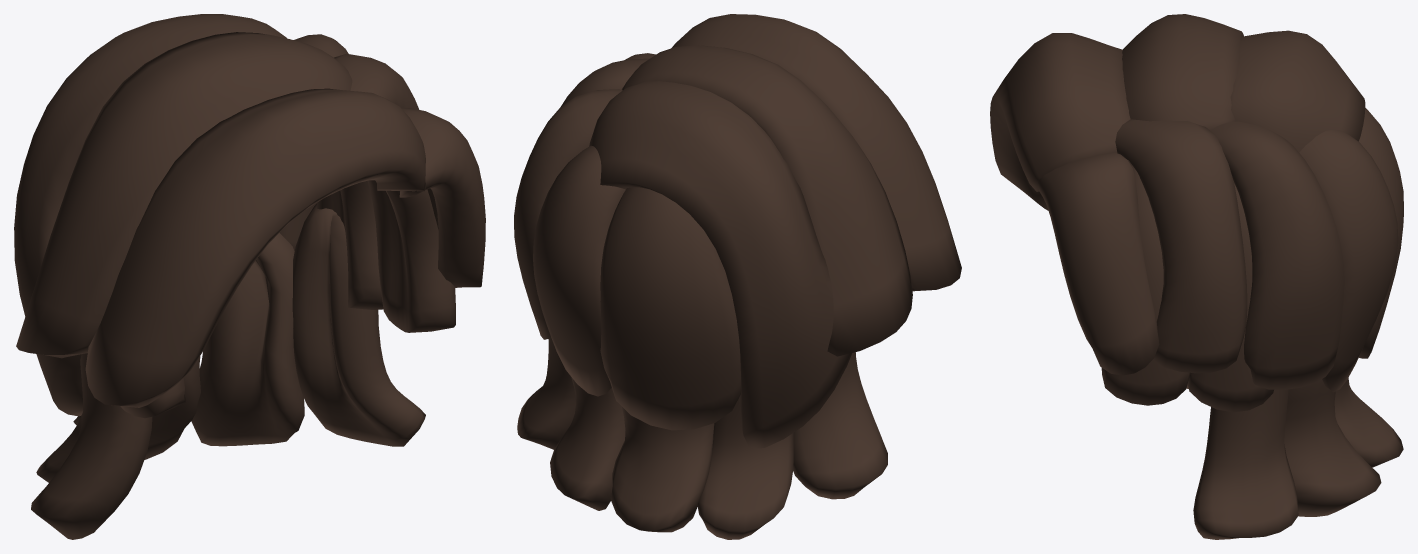
The model's file is hair3.fbx.
3 views of the same model, side by side, from view 1: azimuth 30°, elevation 25°; view 2: azimuth 150°, elevation 25°; view 3: azimuth 270°, elevation 25° (orthographic). The views are drawn at different scales.
Parts seen in each view (by area): view 1: CH_HairBand01, CH_HairBand03, CH_HairBand09, CH_HairBand04, CH_HairBand10, CH_HairBand11, CH_HairBand05.001, CH_HairBand02, CH_HairBand05.002, CH_HairBand05, CH_HairBand13, CH_HairBand06 (+2 smaller); view 2: CH_HairBand04, CH_HairBand08, CH_HairBand03, CH_HairBand01, CH_HairBand07, CH_HairBand13, CH_HairBand12, CH_HairBand11, CH_HairBand06, CH_HairBand10, CH_HairBand09, CH_HairBand05; view 3: CH_HairBand06, CH_HairBand05, CH_HairBand02, CH_HairBand01, CH_HairBand07, CH_HairBand09, CH_HairBand04, CH_HairBand03, CH_HairBand10, CH_HairBand05.001, CH_HairBand05.002, CH_HairBand13 (+1 smaller).
Boxes of the visible parts, x1,y1,x2,y2 form: CH_HairBand01: [85, 88, 425, 407]; CH_HairBand03: [16, 32, 352, 358]; CH_HairBand09: [292, 203, 425, 446]; CH_HairBand04: [14, 14, 286, 416]; CH_HairBand10: [191, 233, 304, 446]; CH_HairBand11: [31, 353, 152, 539]; CH_HairBand05.001: [367, 180, 455, 332]; CH_HairBand02: [399, 108, 485, 287]; CH_HairBand05.002: [317, 181, 383, 309]; CH_HairBand05: [334, 53, 419, 109]; CH_HairBand13: [73, 356, 200, 459]; CH_HairBand06: [279, 34, 348, 250]; CH_HairBand04: [589, 81, 851, 448]; CH_HairBand08: [600, 187, 741, 430]; CH_HairBand03: [622, 45, 912, 356]; CH_HairBand01: [671, 14, 961, 291]; CH_HairBand07: [533, 145, 625, 396]; CH_HairBand13: [610, 407, 714, 532]; CH_HairBand12: [697, 398, 793, 539]; CH_HairBand11: [793, 352, 887, 499]; CH_HairBand06: [514, 89, 622, 339]; CH_HairBand10: [550, 377, 625, 510]; CH_HairBand09: [517, 338, 575, 449]; CH_HairBand05: [561, 58, 649, 106]; CH_HairBand06: [1211, 121, 1344, 389]; CH_HairBand05: [1115, 119, 1247, 373]; CH_HairBand02: [1037, 152, 1159, 375]; CH_HairBand01: [990, 33, 1130, 210]; CH_HairBand07: [1299, 130, 1398, 392]; CH_HairBand09: [1193, 389, 1298, 539]; CH_HairBand04: [1230, 30, 1365, 152]; CH_HairBand03: [1122, 14, 1243, 130]; CH_HairBand10: [1284, 379, 1381, 516]; CH_HairBand05.001: [1101, 160, 1190, 405]; CH_HairBand05.002: [1187, 183, 1273, 412]; CH_HairBand13: [1334, 378, 1403, 467].
Size of the model in its own units: 5850 by 6431 by 5346.
